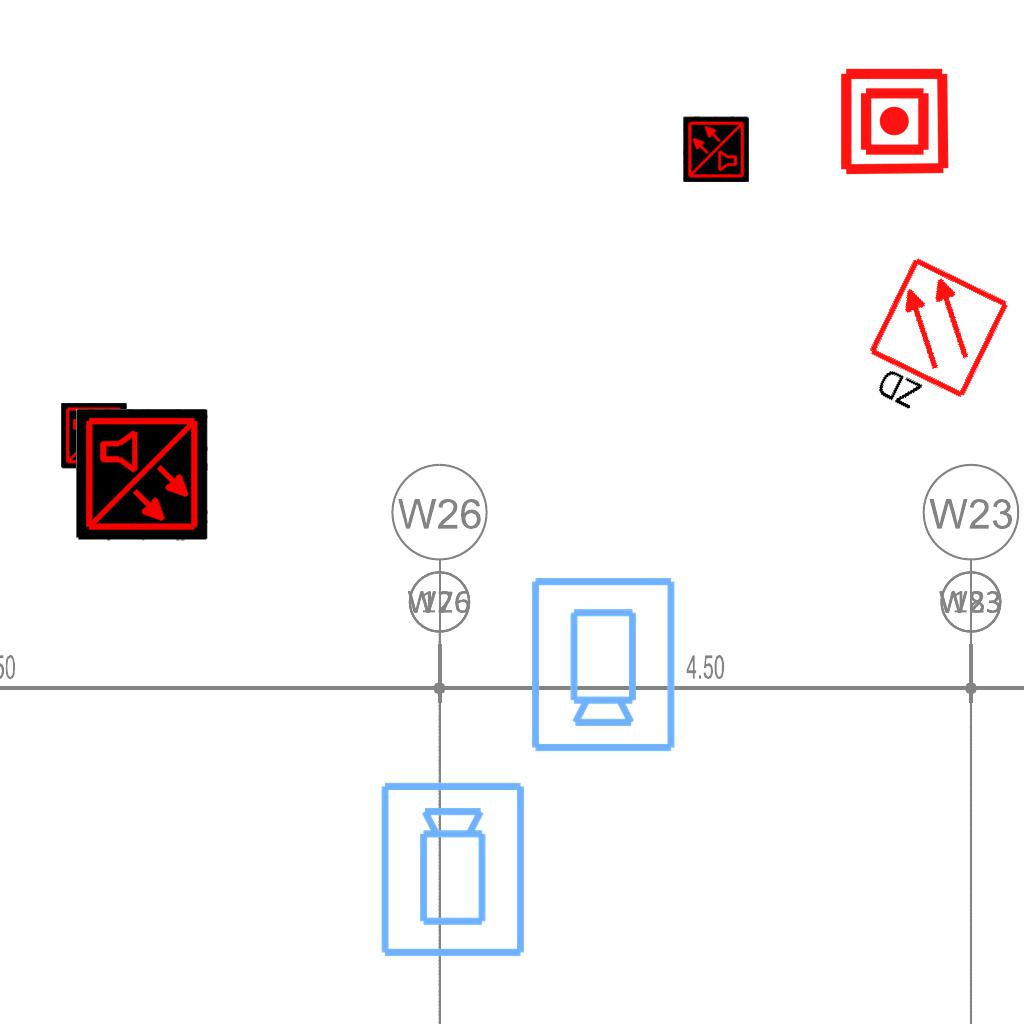KFO_Kamera_mit_Festobjektiv: (377, 779, 531, 961), (525, 573, 679, 755)
NAM-Nichtautomatischer_Melder: (838, 65, 951, 178)
OKW_Multisensormelder_(Kombination_optischer_Rauch-Kahlenmonoxid_Waerme-Melder): (76, 409, 208, 541), (61, 403, 127, 469), (683, 116, 749, 182)
ZD_Melder_in_Zwischendecke_mit_Revisionsoeffnung_mind_40_x_40_cm: (848, 253, 1016, 438)
